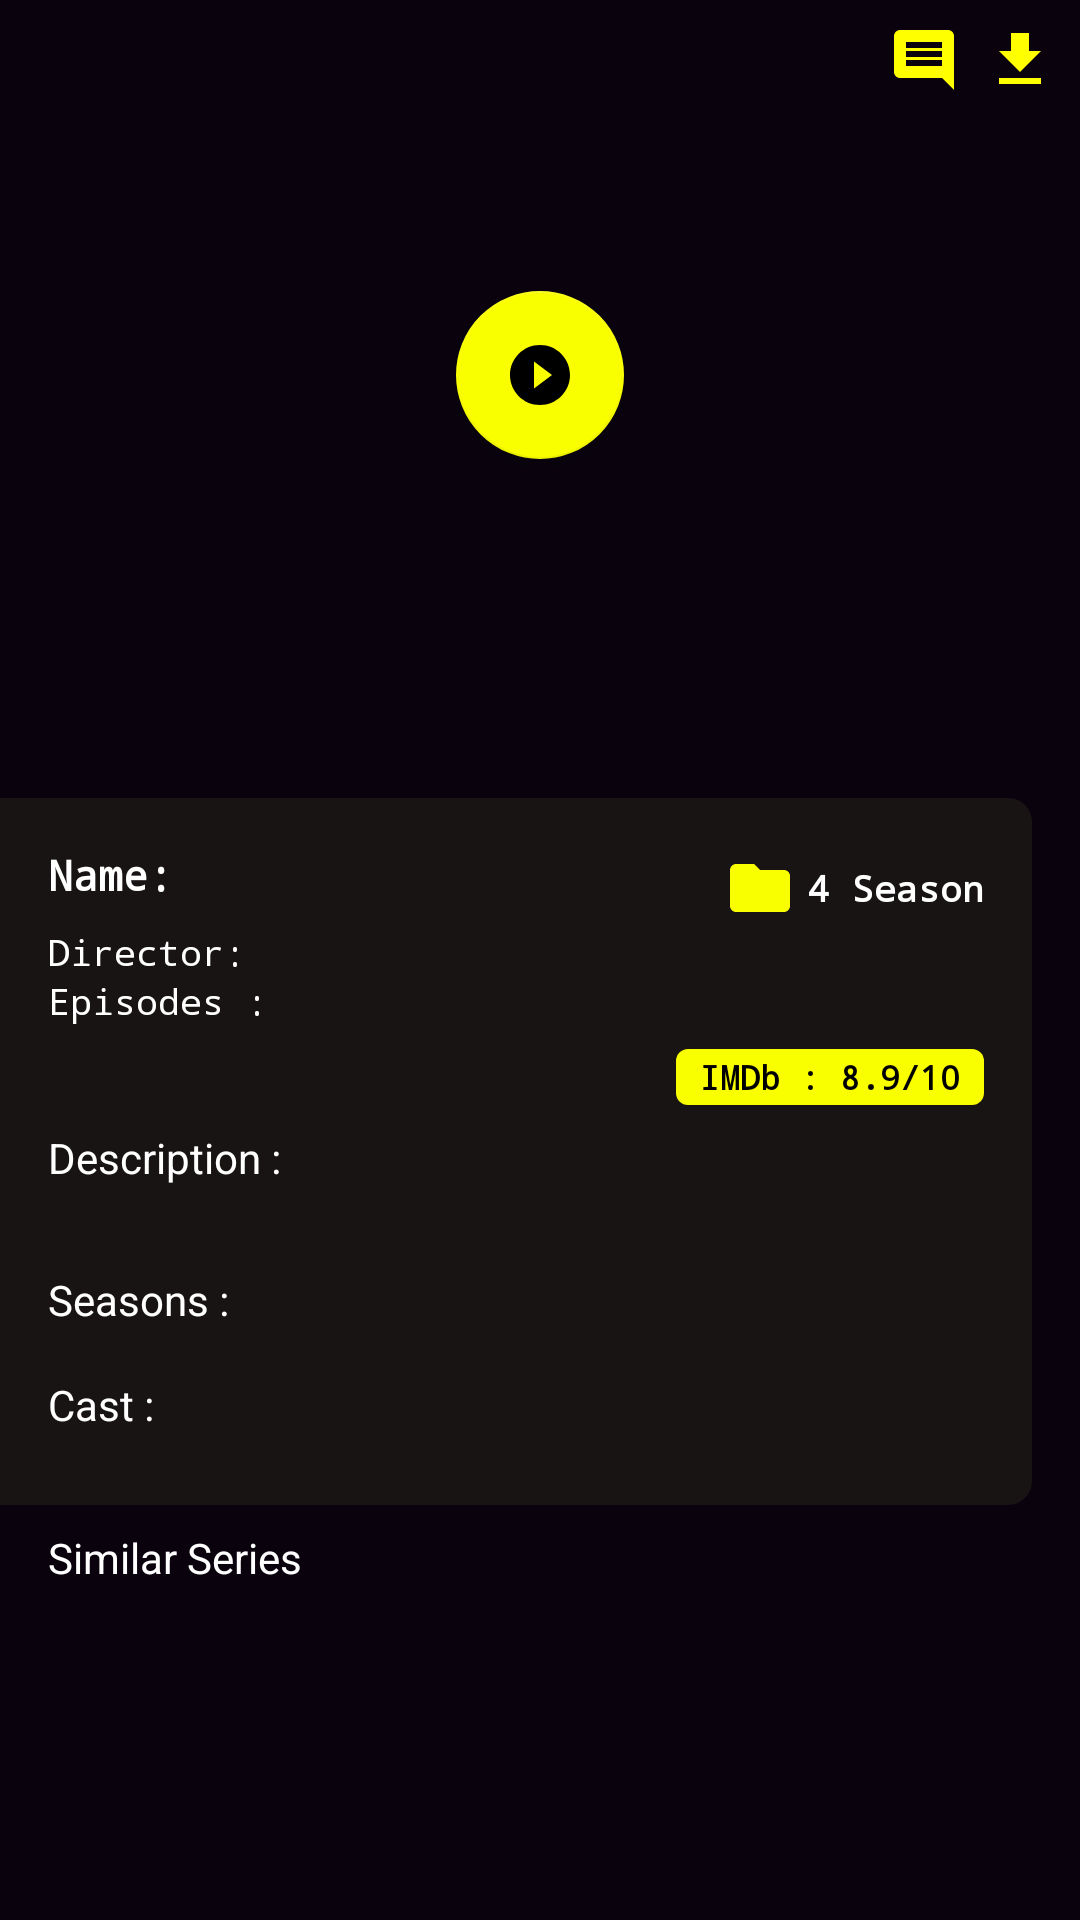

Icon click points for this 1080*1920 phone screenshot, format (x=x, y=y):
comment: (x=924, y=60)
folder: (x=760, y=888)
get app: (x=1020, y=58)
play circle: (x=540, y=375)
